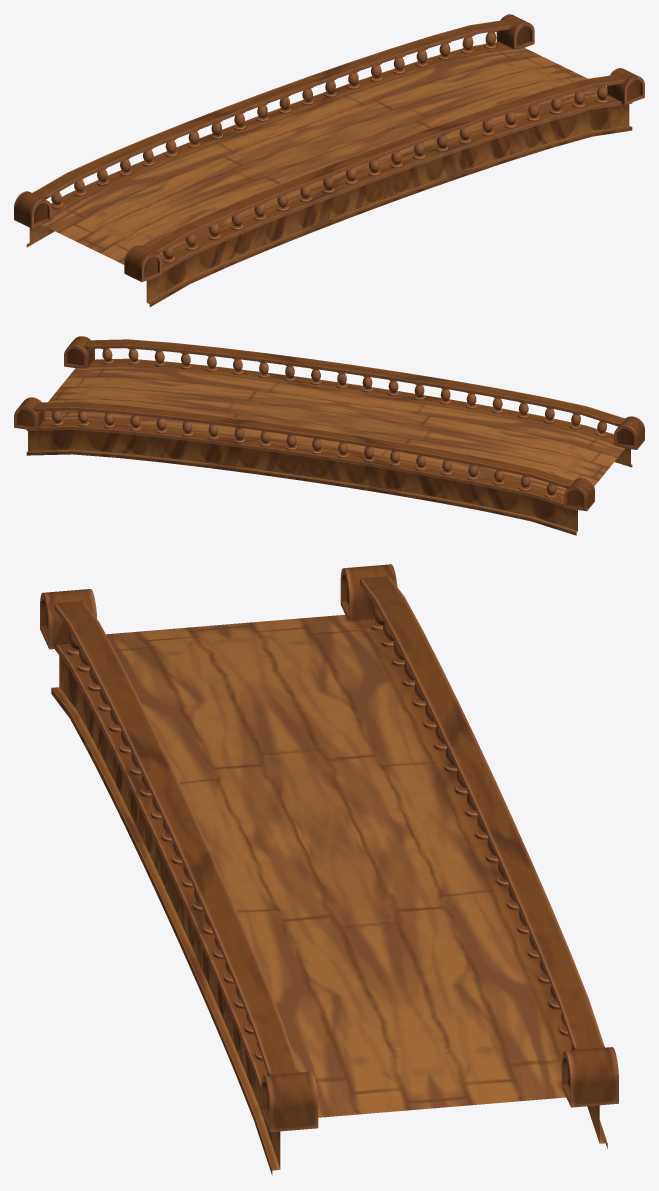
Rendered from environment-bunnysama-bridge.fbx.
3 views of the same model, one above another, from view 1: azimuth 30°, elevation 25°; view 2: azimuth 150°, elevation 25°; view 3: azimuth 270°, elevation 25° (orthographic). The views are drawn at different scales.
Visible parts, largest first — view 1: bridge.002; view 2: bridge.002; view 3: bridge.002.
Boxes of the visible parts, x1=… form: bridge.002: x1=14, y1=14, x2=644, y2=306; bridge.002: x1=14, y1=336, x2=644, y2=535; bridge.002: x1=40, y1=564, x2=618, y2=1175.
Size of the model in its own units: 5143 by 559 by 2368.
1 material, 1 textured.
